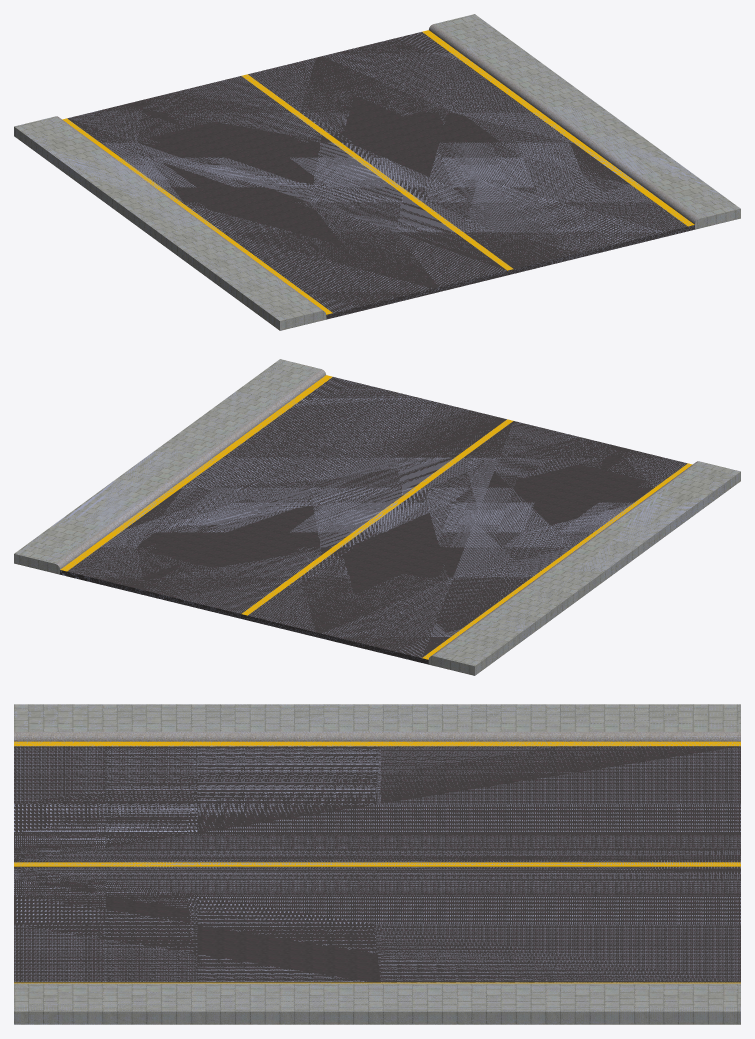
The picture shows the model from 3 angles, top to bottom: view 1: azimuth 30°, elevation 25°; view 2: azimuth 150°, elevation 25°; view 3: azimuth 270°, elevation 25°; orthographic projection. The views are drawn at different scales.
Parts seen in each view (by area): view 1: SketchUp (×8); view 2: SketchUp (×8); view 3: SketchUp (×8).
Part boxes in pixels (x1,y1,x2,y2): SketchUp (×8): (14, 14, 740, 330); SketchUp (×8): (14, 359, 740, 675); SketchUp (×8): (14, 704, 740, 1024).
Bounding box in the file's own units: 394 × 394 × 7.87.
Materials: 6 (3 with a texture image).
